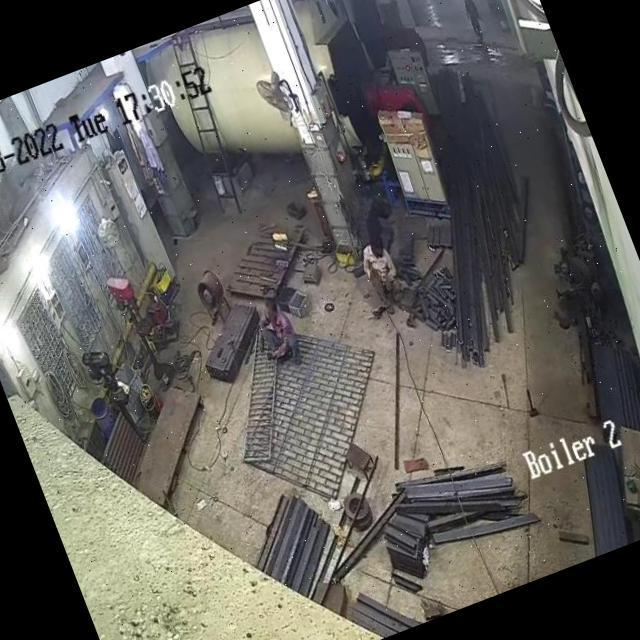person: (356, 230, 409, 310), (456, 0, 497, 56)
